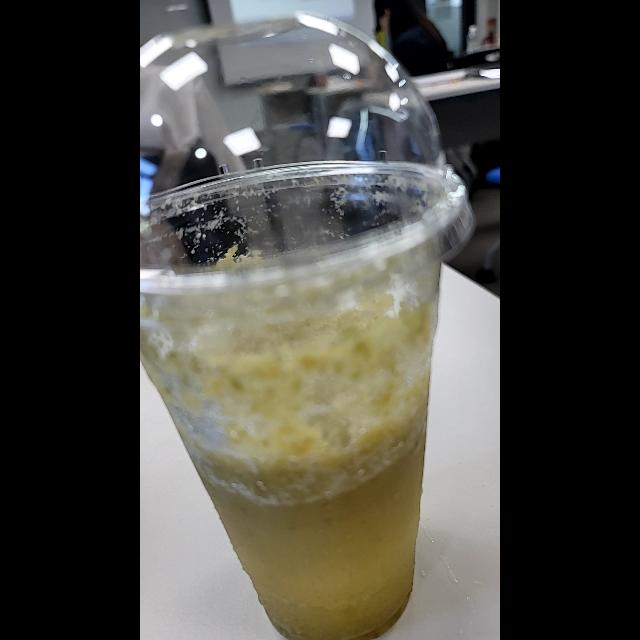plastic_cup: (145, 16, 471, 640)
plastic_cup_lid: (140, 19, 472, 304)
